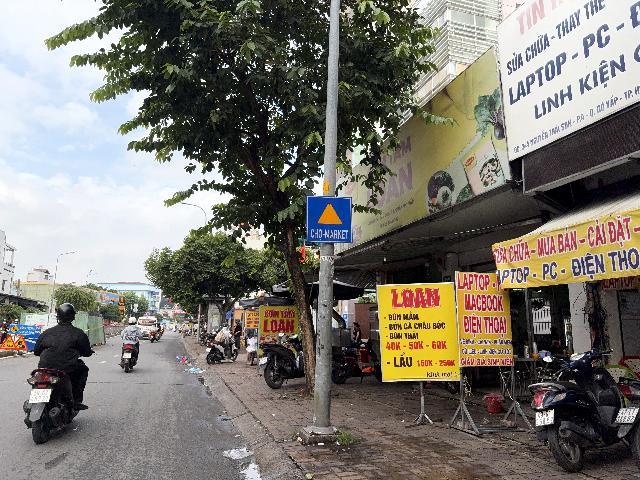khu-vuc-cho-phia-truoc: (306, 195, 353, 243)
